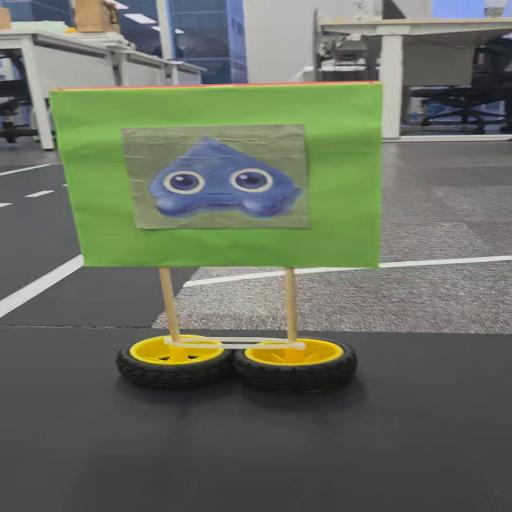Sign_B: (38, 81, 418, 400)
